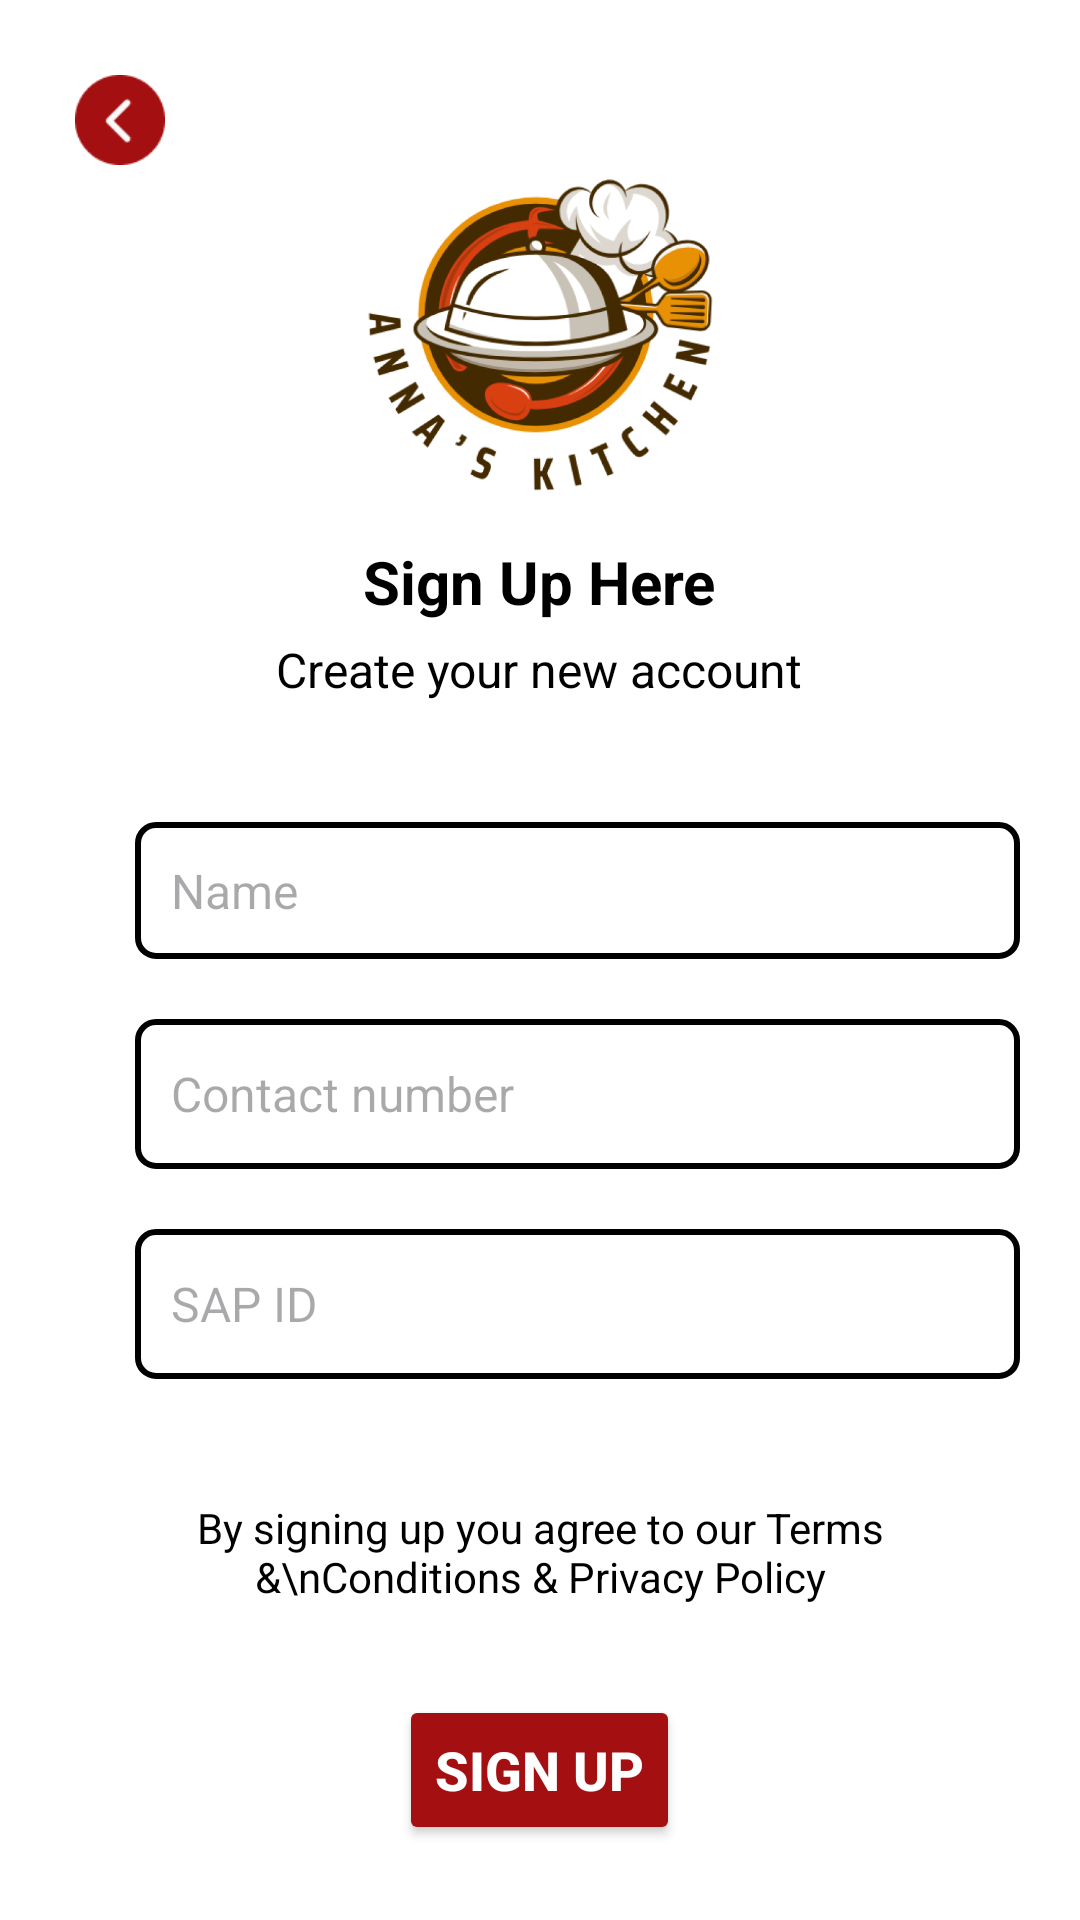

Where to tap for icons on this 1080px x 1920px app screen, as (x=x, y=y):
Back: (x=120, y=120)
